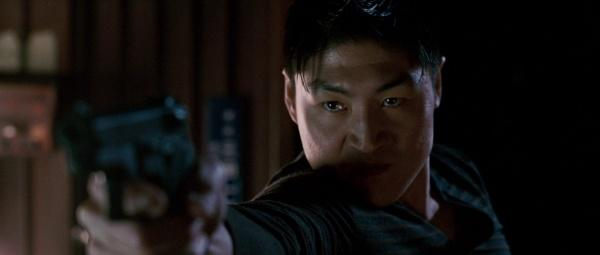Gun: (57, 96, 199, 217)
